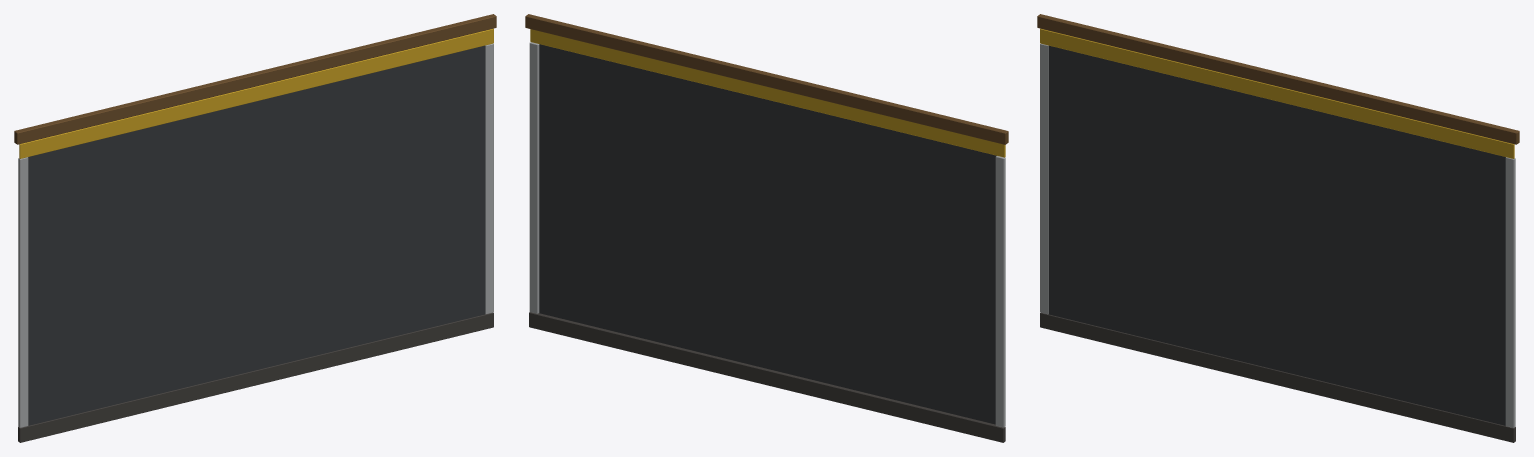
The model's file is prop_of_box_bank_w320.glb.
3 renders of one model, left to right at view 1: azimuth 30°, elevation 25°; view 2: azimuth 150°, elevation 25°; view 3: azimuth 330°, elevation 25°, orthographic.
Visible parts, largest first — view 1: Bank; view 2: Bank; view 3: Bank.
Boxes of the visible parts, x1=… form: Bank: x1=14, y1=14, x2=496, y2=442; Bank: x1=525, y1=14, x2=1008, y2=442; Bank: x1=1037, y1=14, x2=1519, y2=442.
Bounding box in the file's own units: 3.36 × 2.08 × 0.039.
